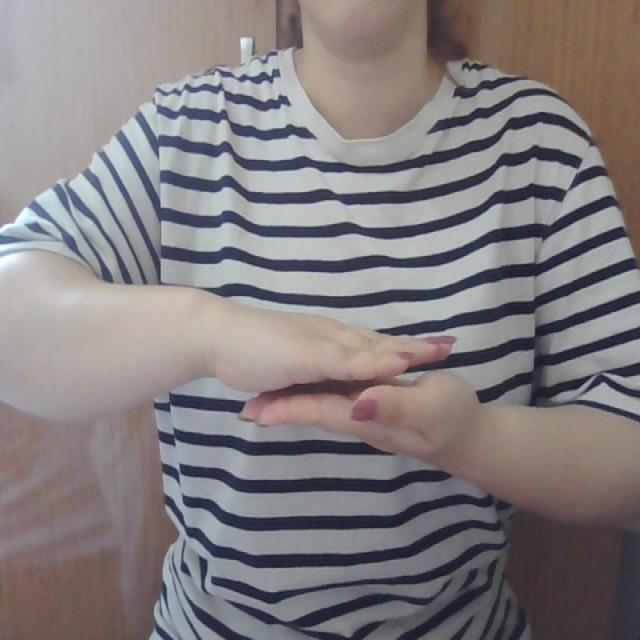Arkadas: (109, 304, 541, 478)
